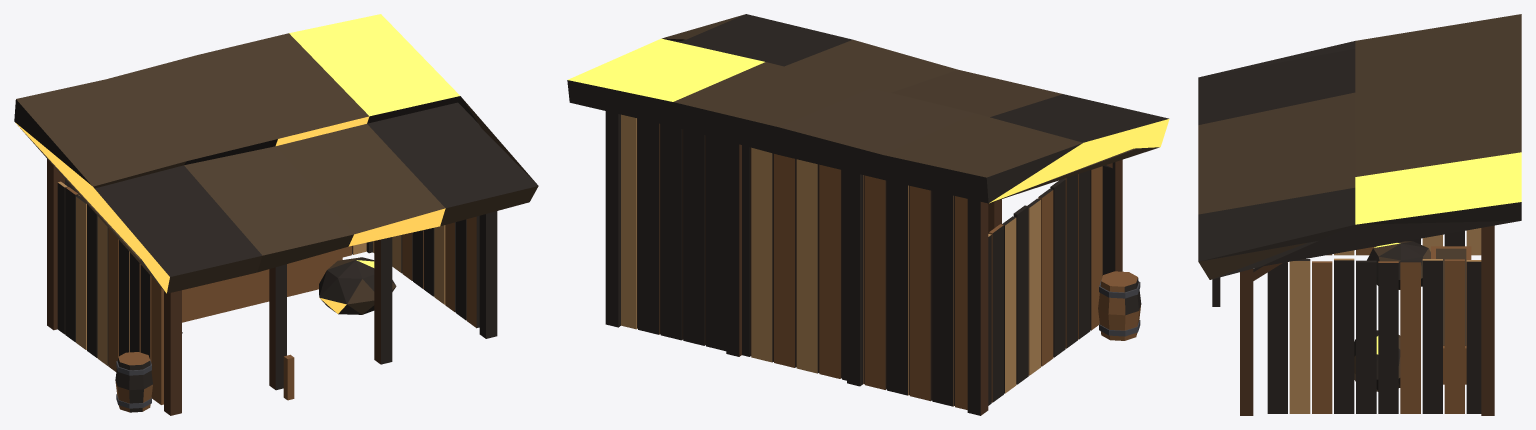
File: Dorf_Stall_Beschaedigt.fbx
The picture shows the model from 3 angles, left to right: view 1: azimuth 30°, elevation 25°; view 2: azimuth 150°, elevation 25°; view 3: azimuth 270°, elevation 25°; orthographic projection. The views are drawn at different scales.
Parts seen in each view (by area): view 1: Dorf_Stall_Beschaedigt; view 2: Dorf_Stall_Beschaedigt; view 3: Dorf_Stall_Beschaedigt.
Part boxes in pixels (<box>): Dorf_Stall_Beschaedigt: <box>14,14,538,415</box>; Dorf_Stall_Beschaedigt: <box>567,14,1169,415</box>; Dorf_Stall_Beschaedigt: <box>1198,14,1521,415</box>.
Size of the model in its own units: 6.78 by 3.76 by 4.82.
